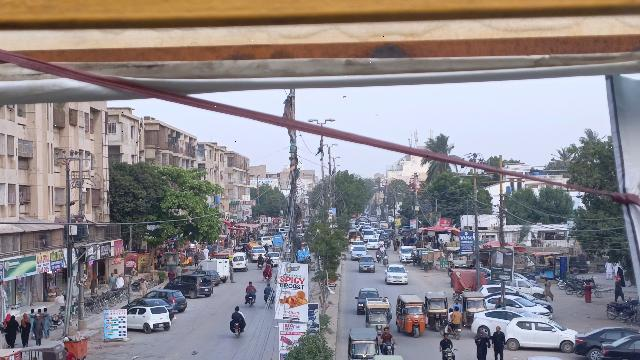Bike: (437, 321, 463, 339), (381, 339, 399, 355), (231, 321, 244, 341), (440, 347, 458, 360), (246, 292, 256, 309), (264, 297, 272, 309)
Car: (505, 314, 576, 355), (573, 321, 633, 360), (470, 307, 532, 338), (126, 304, 172, 334), (162, 274, 215, 299), (599, 332, 640, 360), (146, 288, 190, 313), (353, 287, 382, 314), (383, 263, 409, 287), (357, 255, 376, 276)
Person: (470, 326, 491, 360), (490, 326, 508, 360), (30, 311, 45, 345), (17, 311, 31, 347), (6, 314, 19, 347), (438, 331, 455, 348), (381, 325, 393, 342), (230, 306, 244, 320), (444, 305, 454, 324), (452, 306, 463, 323), (263, 283, 275, 296), (245, 281, 256, 295)
Rickshaw: (394, 293, 429, 340), (422, 288, 449, 331), (346, 327, 380, 359), (363, 298, 393, 333), (460, 291, 487, 325)
Truck: (201, 258, 231, 281)
